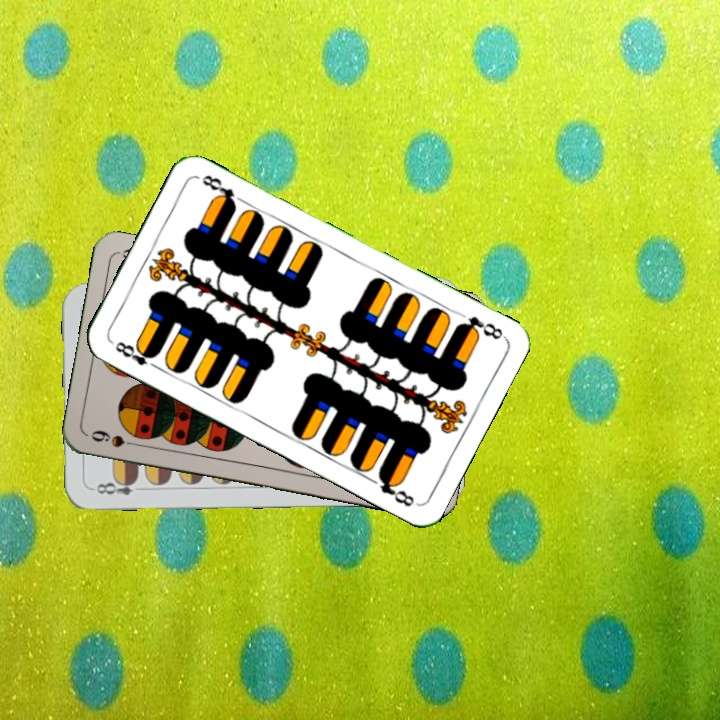E8: (111, 337, 162, 372), (452, 312, 507, 342), (89, 475, 140, 498)
S9: (87, 426, 145, 450)
